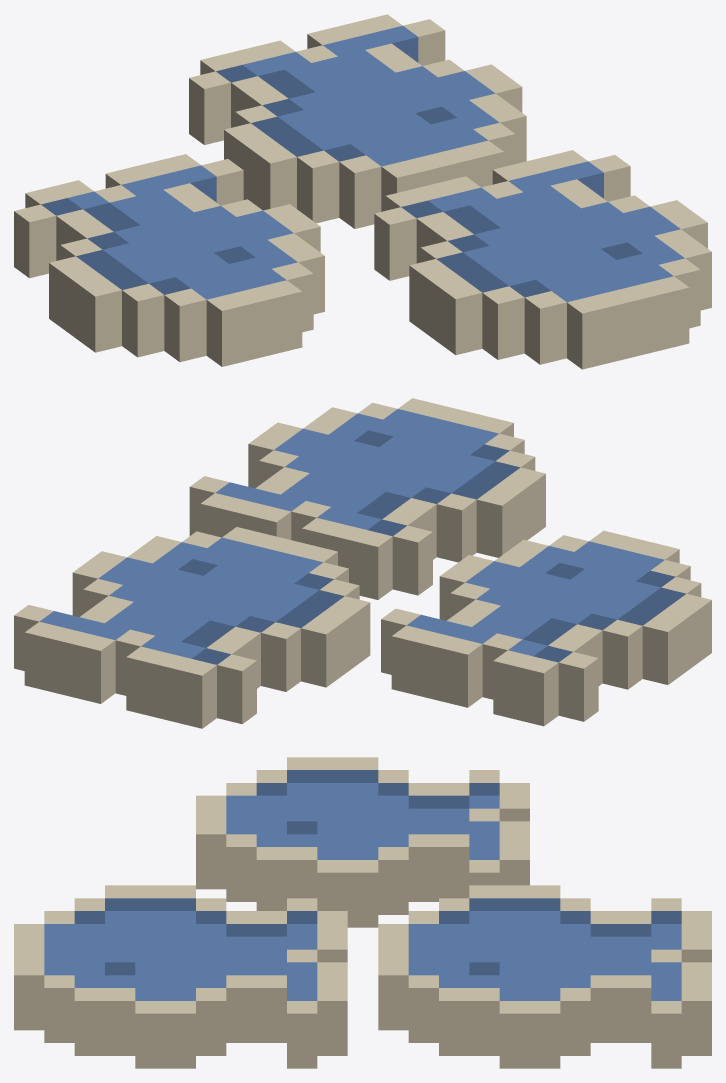
File: food.vox-4-z-fish-jeon.obj
3 views of the same model, one above another, from view 1: azimuth 30°, elevation 25°; view 2: azimuth 150°, elevation 25°; view 3: azimuth 270°, elevation 25° (orthographic). The views are drawn at different scales.
Parts seen in each view (by area): view 1: z-fish-jeon; view 2: z-fish-jeon; view 3: z-fish-jeon.
Boxes of the visible parts, x1=… form: z-fish-jeon: x1=14, y1=14, x2=711, y2=369; z-fish-jeon: x1=14, y1=398, x2=711, y2=728; z-fish-jeon: x1=14, y1=757, x2=711, y2=1068.
Size of the model in its own units: 2 by 0.2 by 2.3.
1 material, 1 textured.
